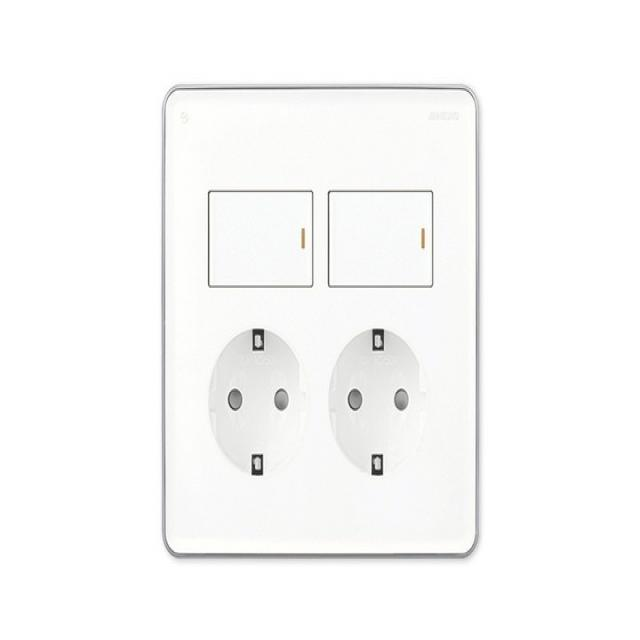typeb: (149, 69, 495, 580)
